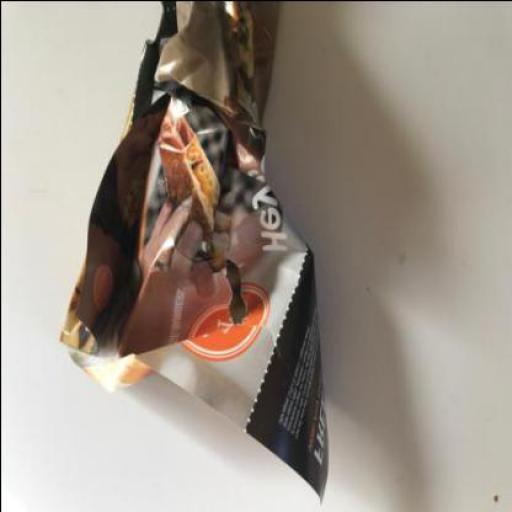paper: (56, 1, 327, 506)
